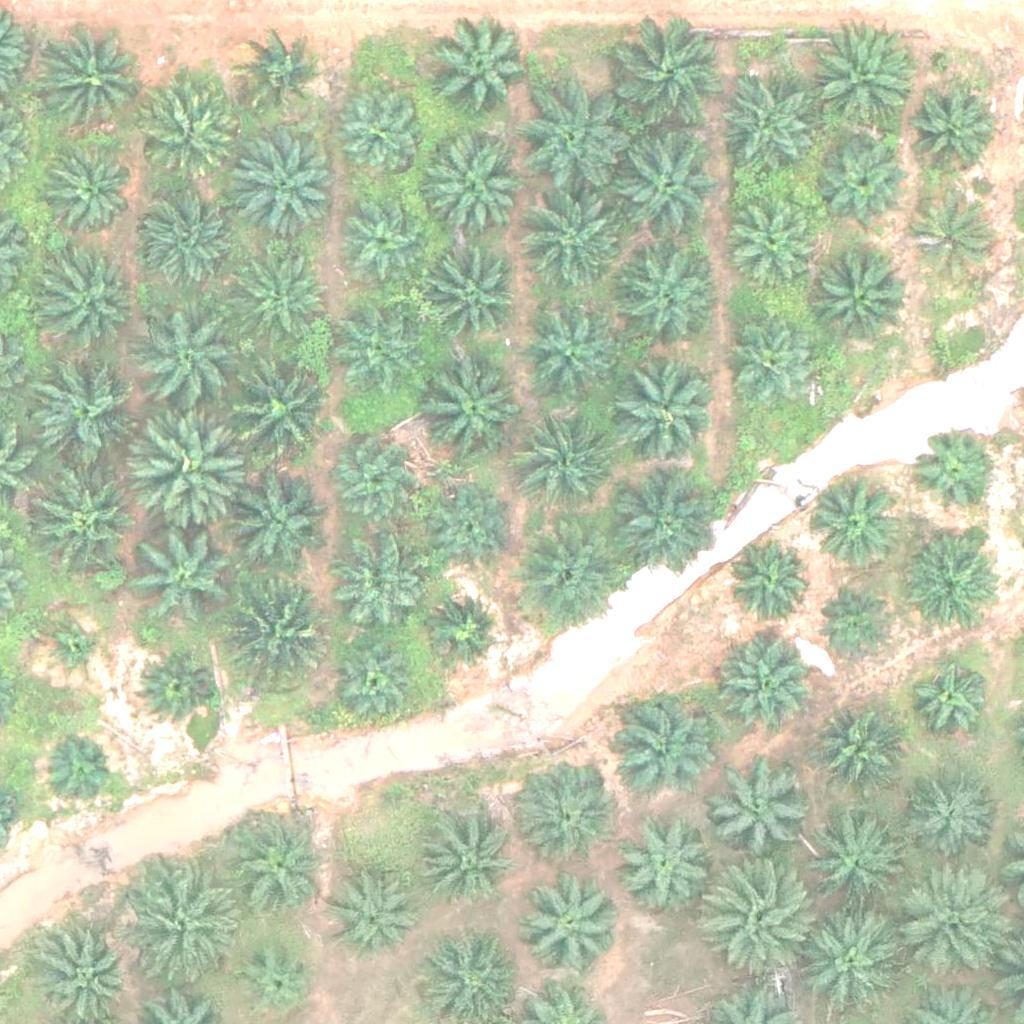Kelapa_Sawit: (33, 245, 146, 359), (609, 235, 722, 349), (805, 22, 918, 136), (893, 862, 1006, 976), (125, 870, 238, 984), (139, 411, 252, 524), (413, 346, 526, 459), (515, 82, 628, 195), (512, 526, 625, 639), (613, 130, 726, 243), (601, 347, 714, 460), (138, 305, 250, 419), (32, 355, 144, 468), (31, 457, 143, 570), (134, 520, 246, 633), (227, 126, 339, 239), (227, 351, 339, 464), (225, 572, 337, 685), (415, 129, 527, 242), (518, 186, 630, 299), (506, 407, 618, 520), (612, 18, 724, 131), (605, 470, 717, 583), (703, 861, 815, 974), (35, 32, 135, 133), (142, 77, 242, 178), (234, 240, 334, 341), (227, 474, 327, 575), (230, 818, 330, 919), (325, 541, 425, 642), (425, 20, 525, 121), (418, 241, 518, 342), (723, 71, 823, 172), (897, 540, 997, 641), (710, 757, 810, 858), (608, 696, 708, 797), (516, 761, 616, 862), (416, 810, 516, 911), (798, 911, 898, 1012), (521, 871, 621, 972), (143, 191, 243, 291), (517, 299, 617, 399), (805, 242, 905, 342), (713, 643, 813, 743), (612, 812, 712, 912), (901, 763, 1001, 863), (808, 818, 908, 918), (906, 195, 994, 283), (421, 586, 509, 674), (333, 194, 421, 282), (727, 197, 815, 285), (730, 317, 818, 405), (820, 136, 908, 224), (910, 84, 998, 172), (331, 873, 419, 961), (50, 154, 137, 242), (241, 26, 328, 114), (331, 85, 418, 173), (336, 312, 423, 400), (332, 437, 419, 525), (334, 641, 421, 729), (427, 482, 514, 570), (914, 428, 1001, 516), (813, 708, 900, 796), (808, 477, 895, 565), (726, 540, 813, 628), (136, 649, 211, 725), (239, 943, 314, 1019), (911, 662, 986, 738), (42, 732, 117, 807), (821, 593, 896, 668), (43, 621, 106, 684)
